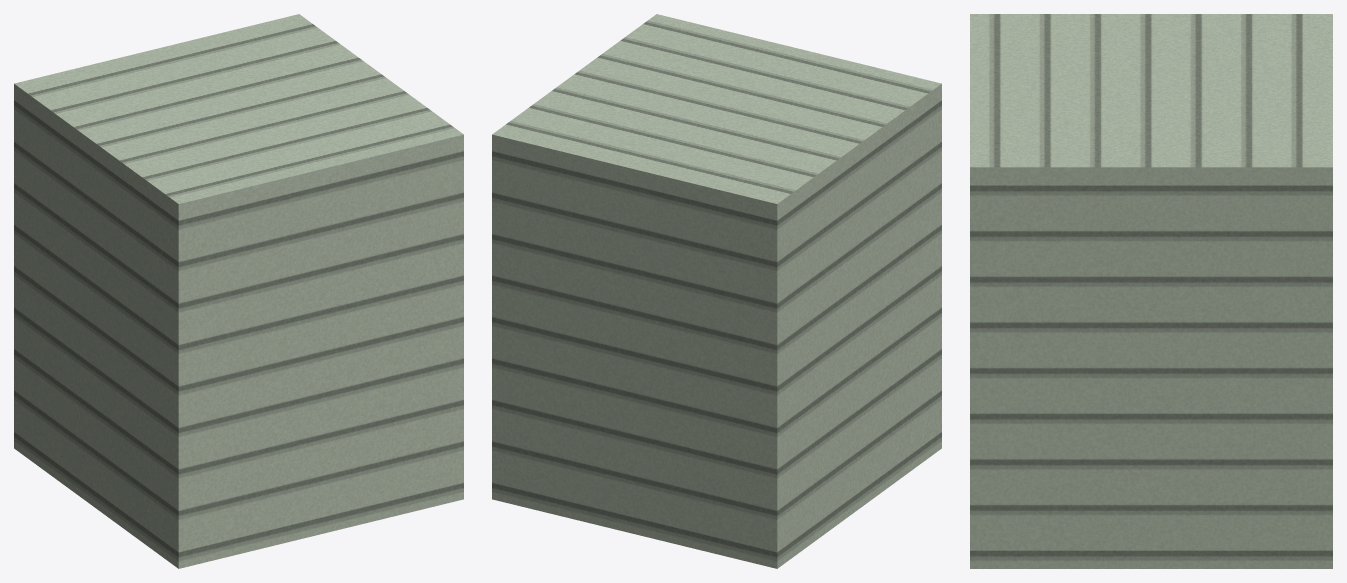
File: witness_stand.glb
The picture shows the model from 3 angles, left to right: view 1: azimuth 30°, elevation 25°; view 2: azimuth 150°, elevation 25°; view 3: azimuth 270°, elevation 25°; orthographic projection. The views are drawn at different scales.
Visible parts, largest first — view 1: witness_stand-col; view 2: witness_stand-col; view 3: witness_stand-col.
Boxes of the visible parts, left/top/right/bottom form: witness_stand-col: left=14, top=14, right=463, bottom=568; witness_stand-col: left=492, top=14, right=941, bottom=568; witness_stand-col: left=970, top=14, right=1332, bottom=568.
Size of the model in its own units: 0.9 by 1.1 by 0.9.
Materials: 1 (1 with a texture image).
